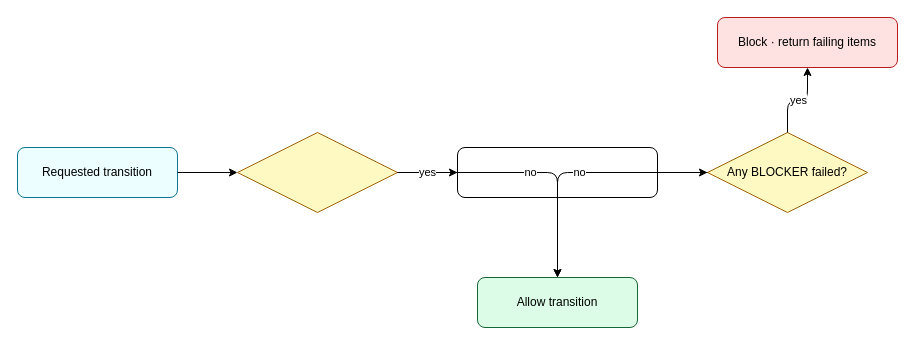
Some shapes in this 915 by 345 pixel diagram are drawn without their labels. The centre of each missing label's shape, as x and y in pixels:
ChecklistEngine evaluates active rules: point (557, 172)
requiresChecklistPass?: point (317, 172)
